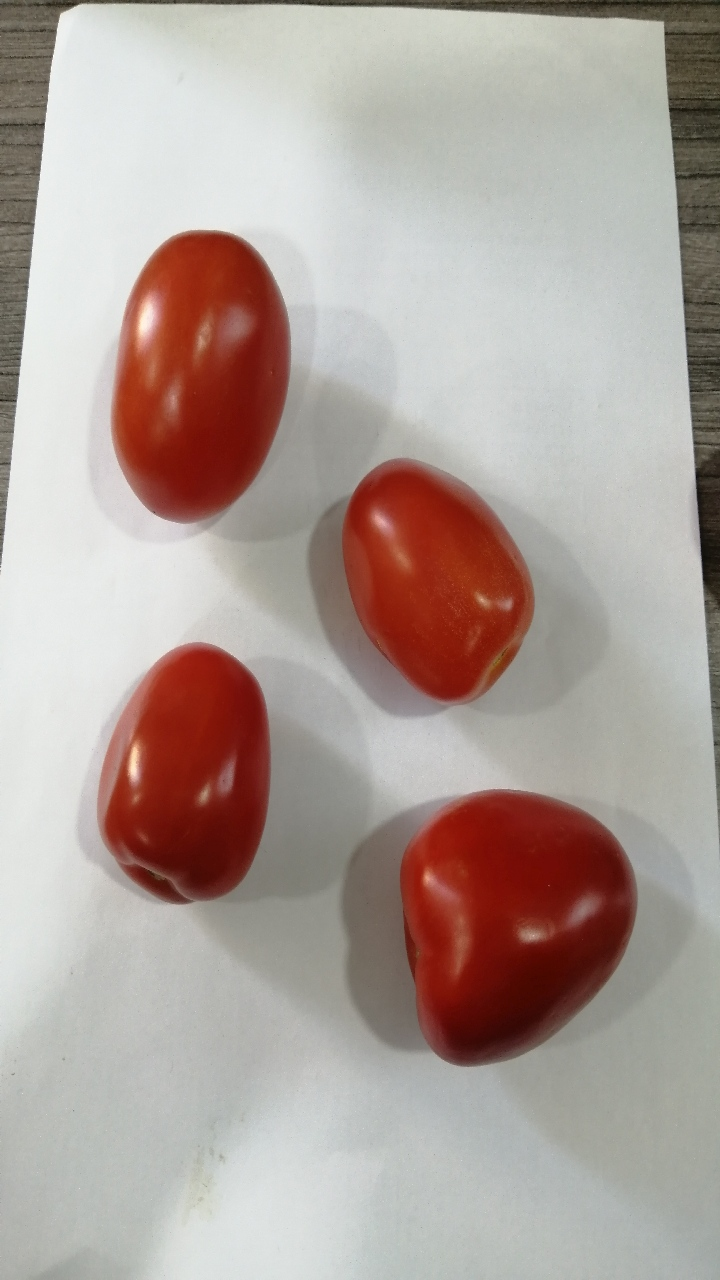tomateRojo: (374, 769, 658, 1083), (88, 215, 304, 549), (77, 622, 292, 929), (321, 431, 548, 711)
